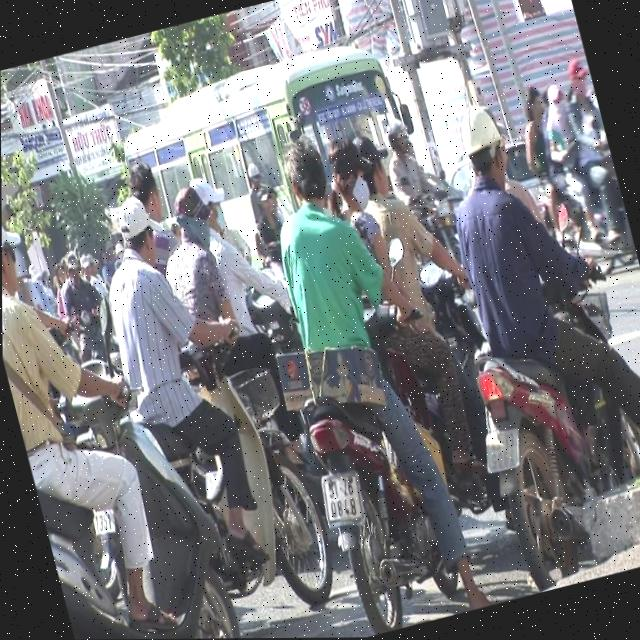motorcycle: (5, 328, 256, 640), (424, 240, 640, 601), (277, 382, 453, 638), (311, 458, 381, 541)
plate: (312, 465, 371, 530)
